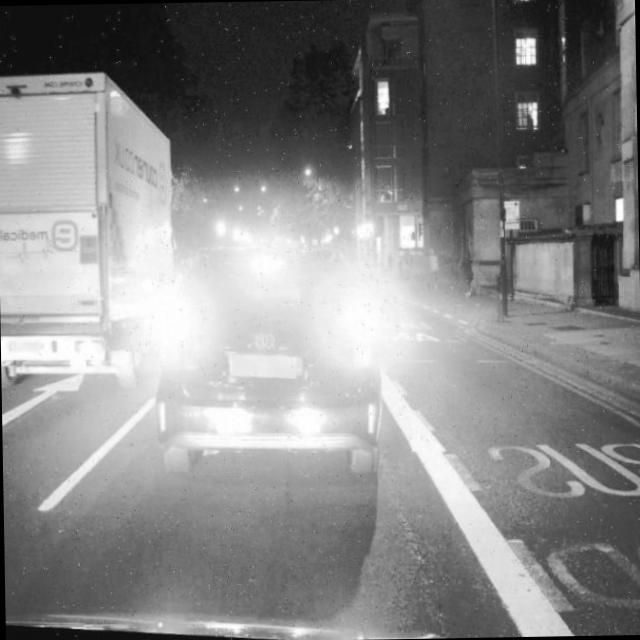Truck: (0, 70, 187, 408)
